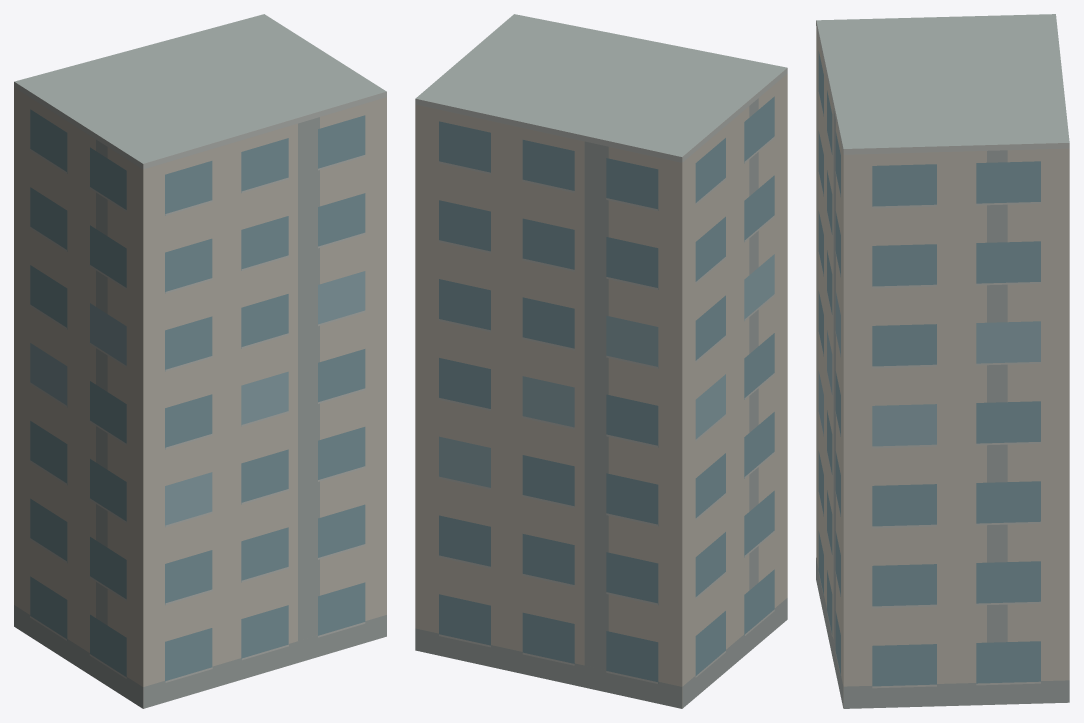
The model's file is survey-upis-32802869.glb.
3 views of the same model, side by side, from view 1: azimuth 30°, elevation 25°; view 2: azimuth 150°, elevation 25°; view 3: azimuth 270°, elevation 25° (orthographic). The views are drawn at different scales.
Visible parts, largest first — view 1: survey-upis-32802869.tmp; view 2: survey-upis-32802869.tmp; view 3: survey-upis-32802869.tmp.
Part boxes in pixels (bbox=[...]): survey-upis-32802869.tmp: bbox=[14, 14, 386, 708]; survey-upis-32802869.tmp: bbox=[415, 14, 787, 708]; survey-upis-32802869.tmp: bbox=[816, 14, 1069, 708].
Bounding box in the file's own units: 12.27 × 23.7 × 9.73.
